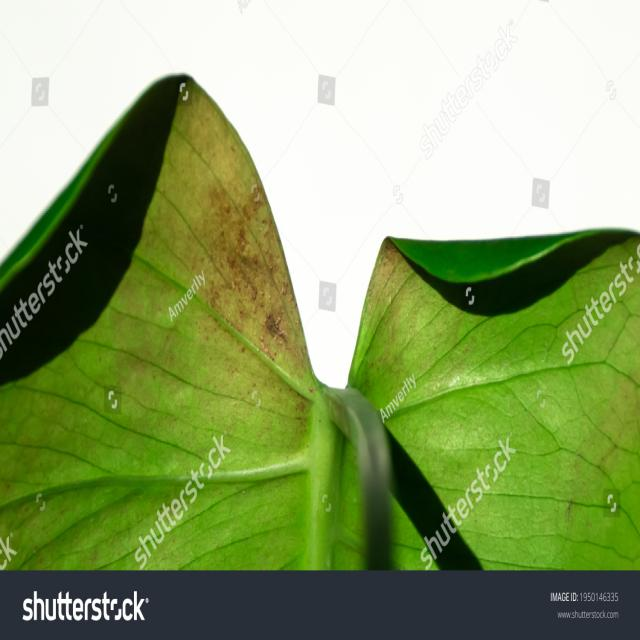Thrip-Group-: (197, 171, 308, 395)
